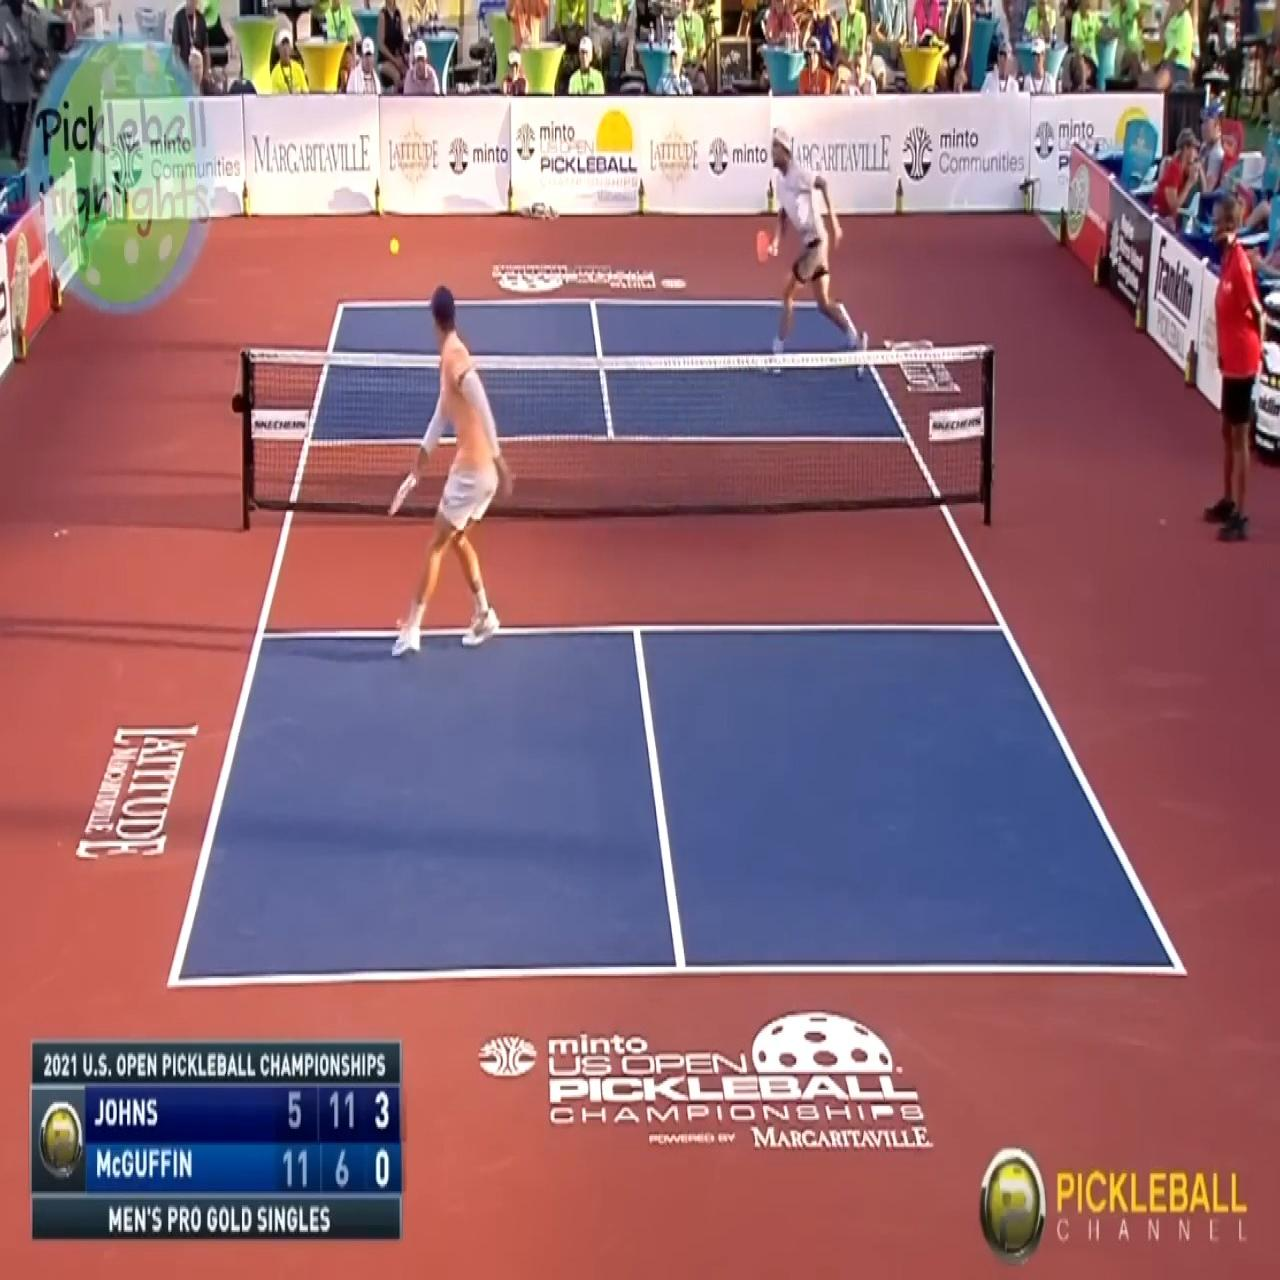pickleball: (390, 237, 399, 254)
